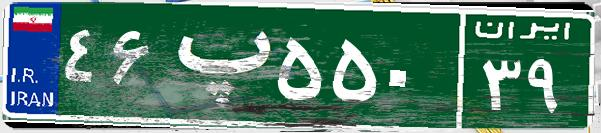0: (385, 28, 445, 110)
3: (475, 38, 525, 113)
4: (57, 26, 110, 107)
5: (273, 28, 330, 110), (330, 28, 385, 110)
6: (110, 28, 158, 105)
9: (525, 38, 570, 115)
پ: (158, 15, 273, 115)
